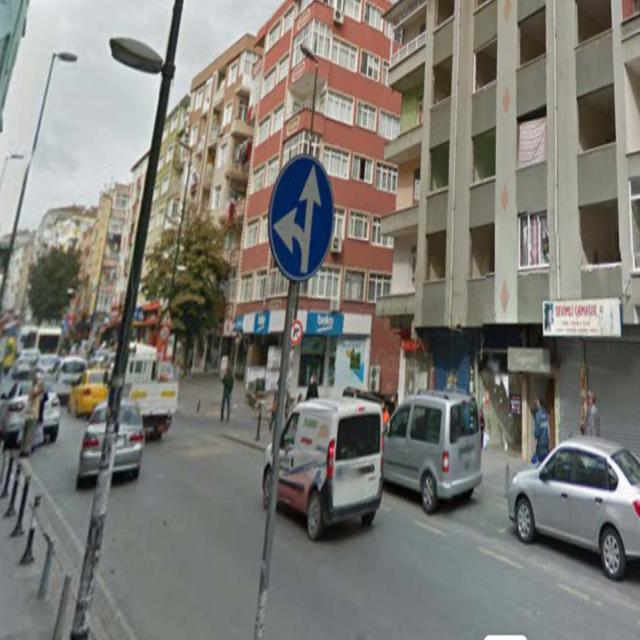ilerisol: (269, 153, 331, 283)
sagadonulmez: (288, 319, 302, 345)
